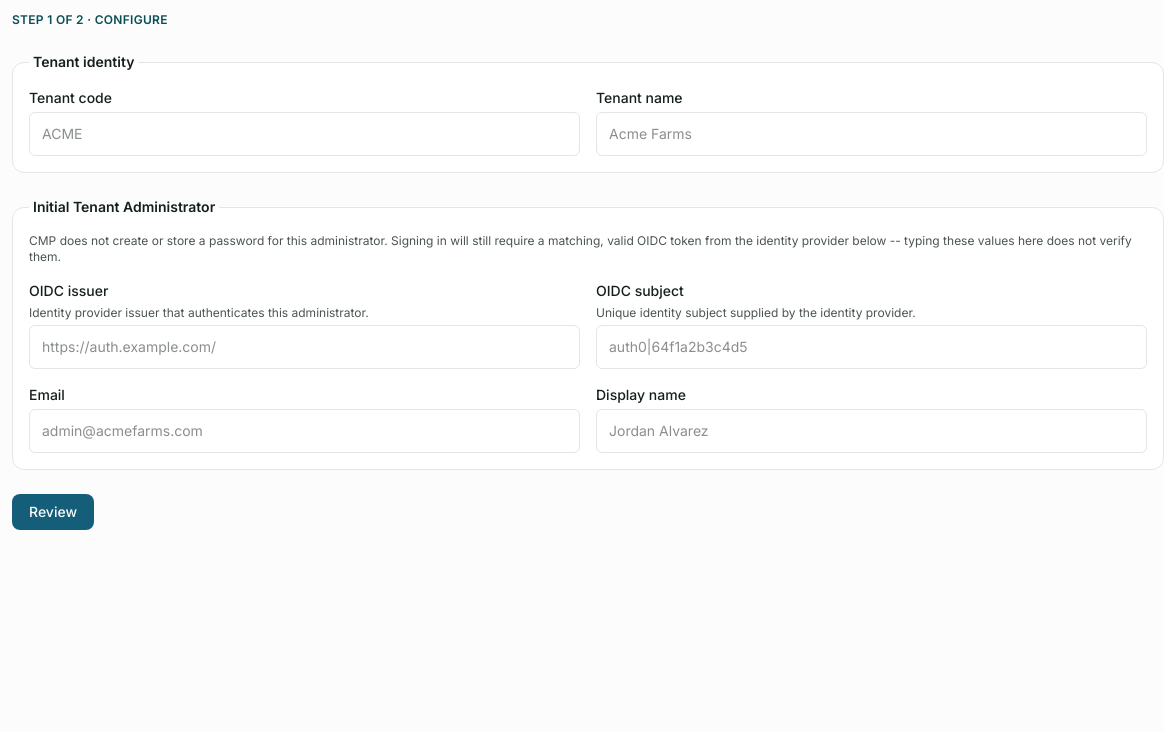
it: CreateTenantForm › blocks moving to review when required fields are blank
This screenshot has width=1164, height=732.
Click the button "Review" at {"x": 53, "y": 512}, box top-left (12, 494), bottom-right (94, 530)
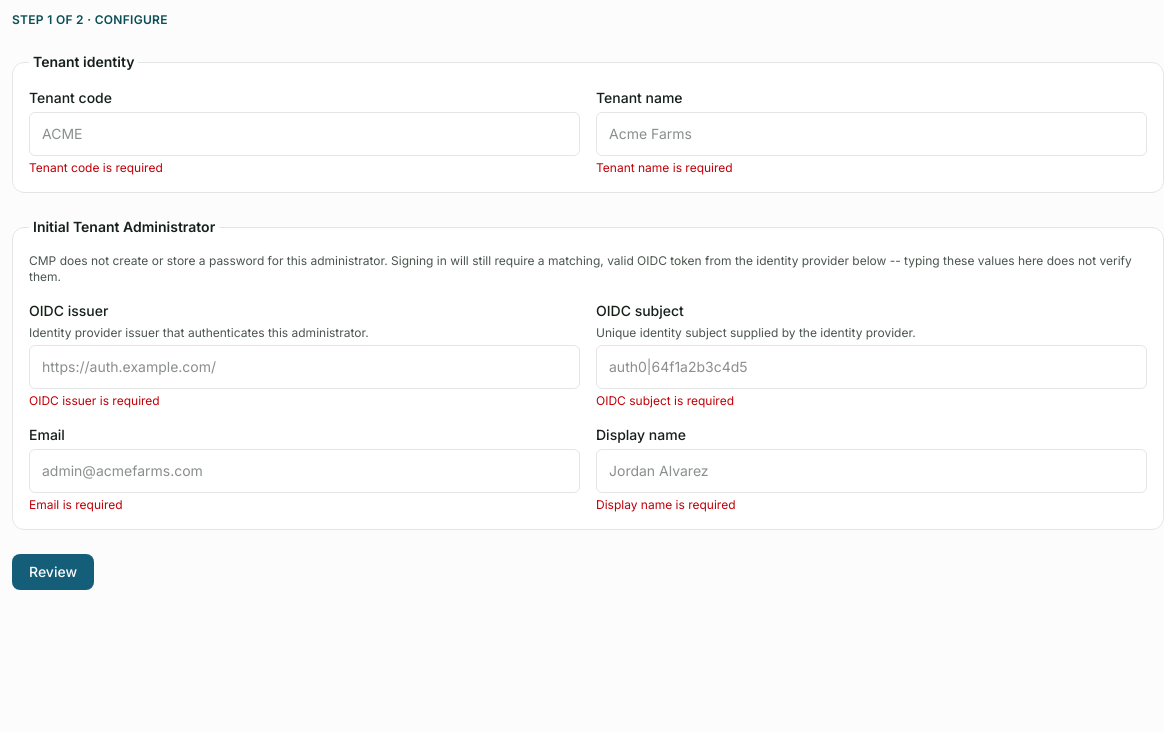
Check: the text "Tenant code is required" is shown, box top-left (29, 160), bottom-right (163, 175)
